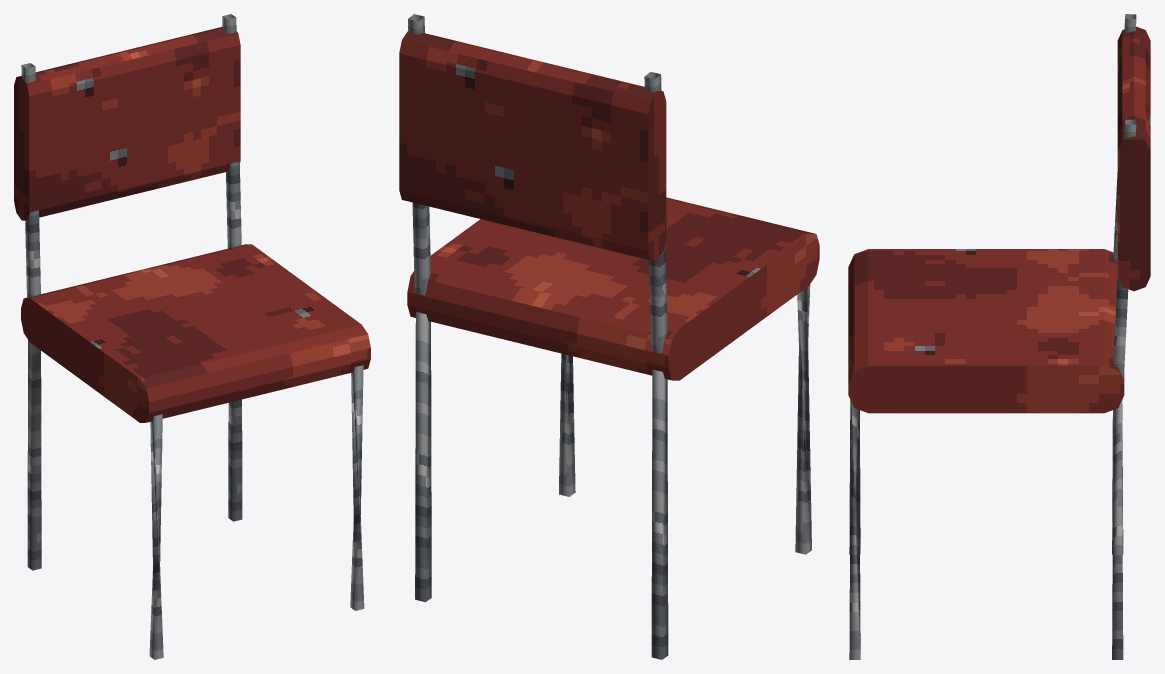
Rendered from RES_DiningChair_Vinyl.obj.
3 renders of one model, left to right at view 1: azimuth 30°, elevation 25°; view 2: azimuth 150°, elevation 25°; view 3: azimuth 270°, elevation 25°, orthographic. The views are drawn at different scales.
Visible parts, largest first — view 1: RES_DiningChair_Vinyl_Mesh_M_Town_PaintRed, RES_DiningChair_Vinyl_Mesh_M_Furn_MetalBrushed; view 2: RES_DiningChair_Vinyl_Mesh_M_Town_PaintRed, RES_DiningChair_Vinyl_Mesh_M_Furn_MetalBrushed; view 3: RES_DiningChair_Vinyl_Mesh_M_Town_PaintRed, RES_DiningChair_Vinyl_Mesh_M_Furn_MetalBrushed.
Part boxes in pixels (x1=…): RES_DiningChair_Vinyl_Mesh_M_Town_PaintRed: x1=14, y1=27, x2=370, y2=422; RES_DiningChair_Vinyl_Mesh_M_Furn_MetalBrushed: x1=21, y1=14, x2=364, y2=659; RES_DiningChair_Vinyl_Mesh_M_Town_PaintRed: x1=399, y1=31, x2=819, y2=380; RES_DiningChair_Vinyl_Mesh_M_Furn_MetalBrushed: x1=408, y1=14, x2=811, y2=659; RES_DiningChair_Vinyl_Mesh_M_Town_PaintRed: x1=848, y1=26, x2=1150, y2=413; RES_DiningChair_Vinyl_Mesh_M_Furn_MetalBrushed: x1=849, y1=14, x2=1136, y2=659.
Size of the model in its own units: 0.42 by 0.9004 by 0.46.
Materials: 2 (2 with a texture image).
